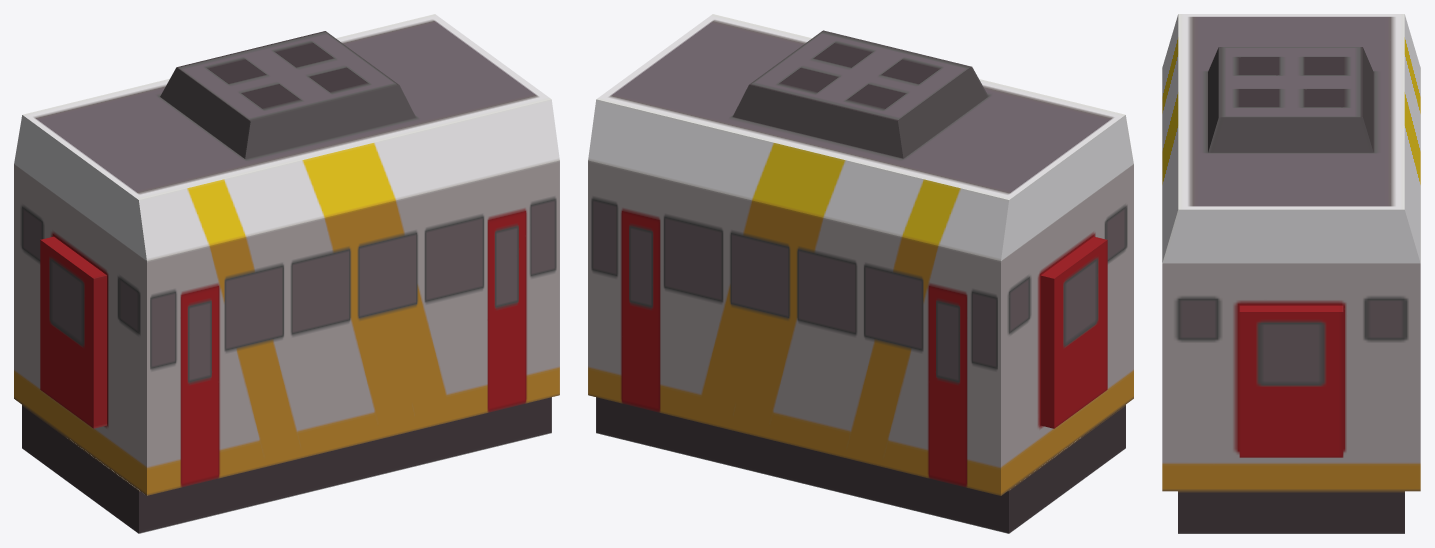
Rendered from Train.fbx.
The picture shows the model from 3 angles, left to right: view 1: azimuth 30°, elevation 25°; view 2: azimuth 150°, elevation 25°; view 3: azimuth 270°, elevation 25°; orthographic projection. The views are drawn at different scales.
Visible parts, largest first — view 1: polySurface27; view 2: polySurface27; view 3: polySurface27.
Part boxes in pixels (x1,y1,x2,y2): polySurface27: (14,14,559,533); polySurface27: (588,14,1133,533); polySurface27: (1162,14,1420,533).
Size of the model in its own units: 4.73 by 3.75 by 2.48.
Materials: 1 (1 with a texture image).
